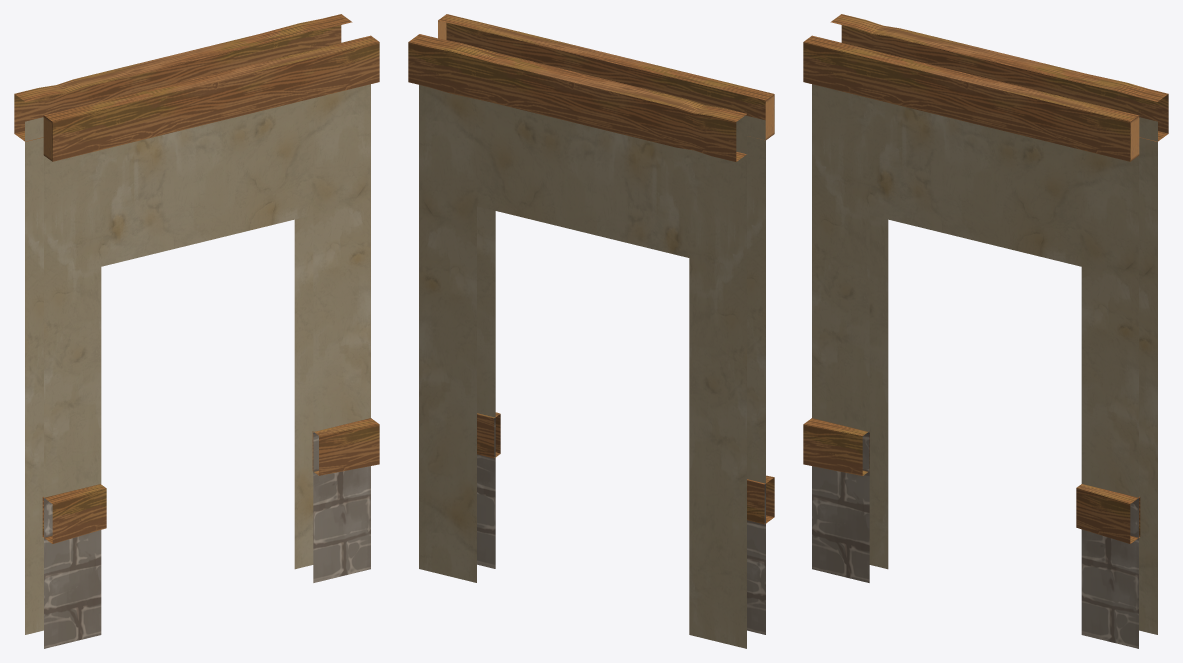
Rendered from Wall_Plaster_Door_Flat.gltf.
3 renders of one model, left to right at view 1: azimuth 30°, elevation 25°; view 2: azimuth 150°, elevation 25°; view 3: azimuth 330°, elevation 25°, orthographic.
Visible parts, largest first — view 1: Wall_Plaster_Door_Flat; view 2: Wall_Plaster_Door_Flat; view 3: Wall_Plaster_Door_Flat.
Part boxes in pixels (box(x1,y1,x2,y2)): Wall_Plaster_Door_Flat: box(14, 14, 379, 648); Wall_Plaster_Door_Flat: box(408, 14, 774, 648); Wall_Plaster_Door_Flat: box(803, 14, 1168, 648).
Bounding box in the file's own units: 2 × 3.12 × 0.4065.
Materials: 3 (3 with a texture image).
